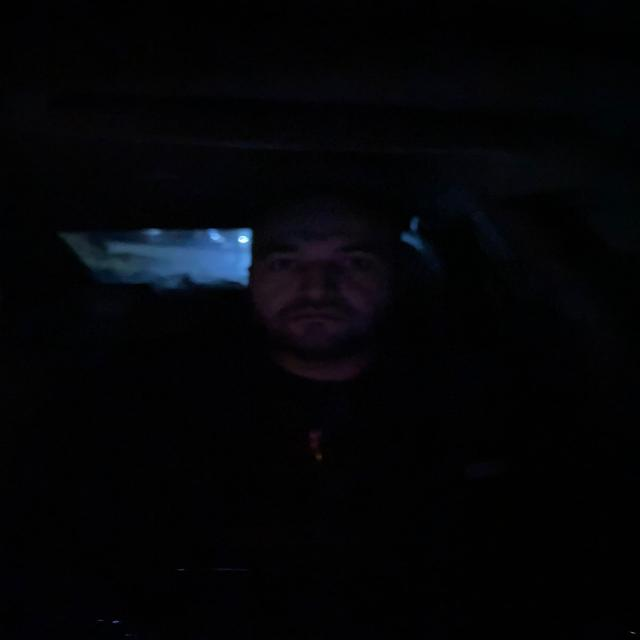person: (238, 170, 421, 376)
